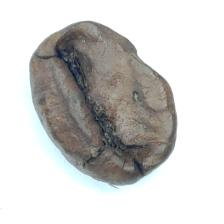NG: (50, 37, 174, 111), (72, 111, 176, 170)
